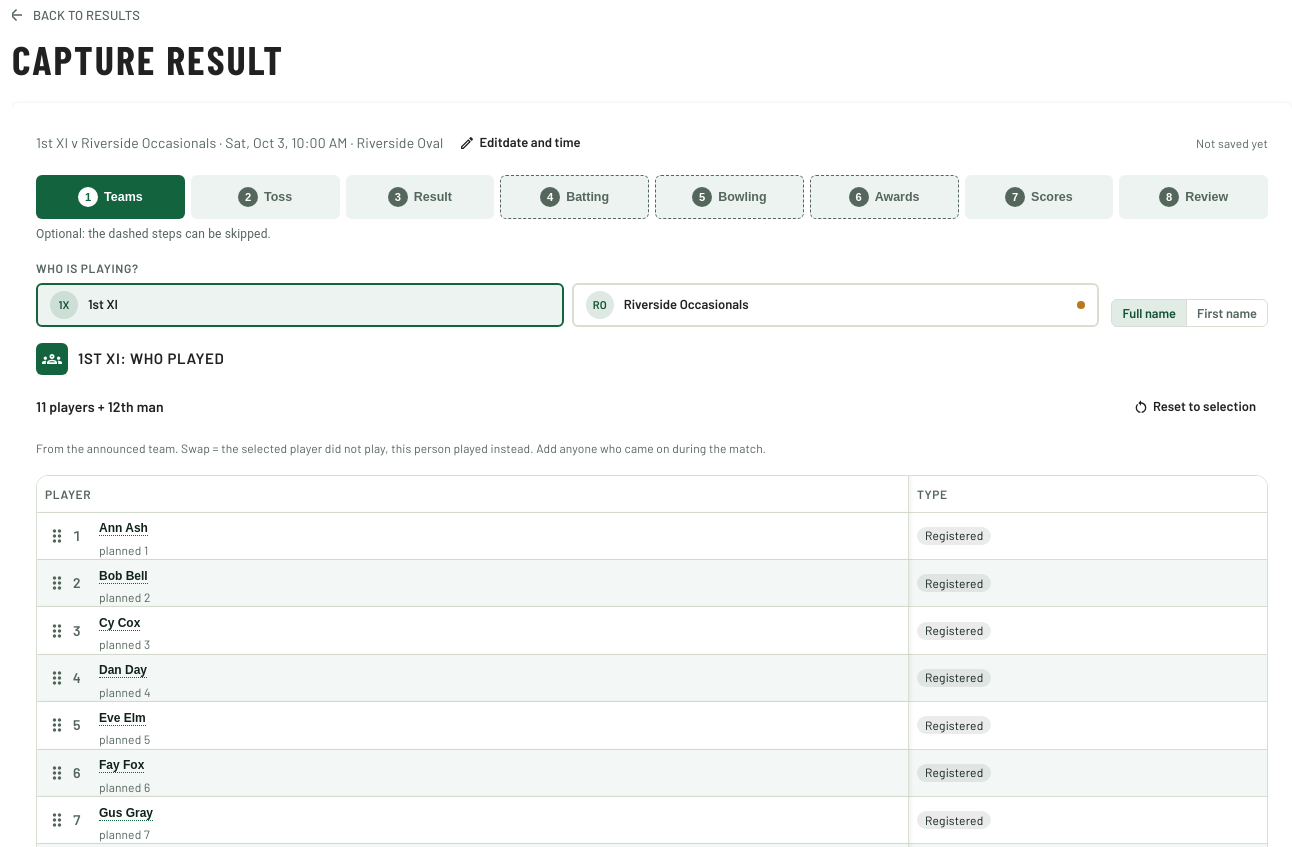
Teams step › offers "Played for ... before" chips that add a name with one tap and hide names already listed
Expected: the text "Ann Ash" is shown, [99,521,148,536]
Click the radio button labelled "RO Riverside Occasionals incomplete".
click(686, 304)  # box [572,283,1099,327]
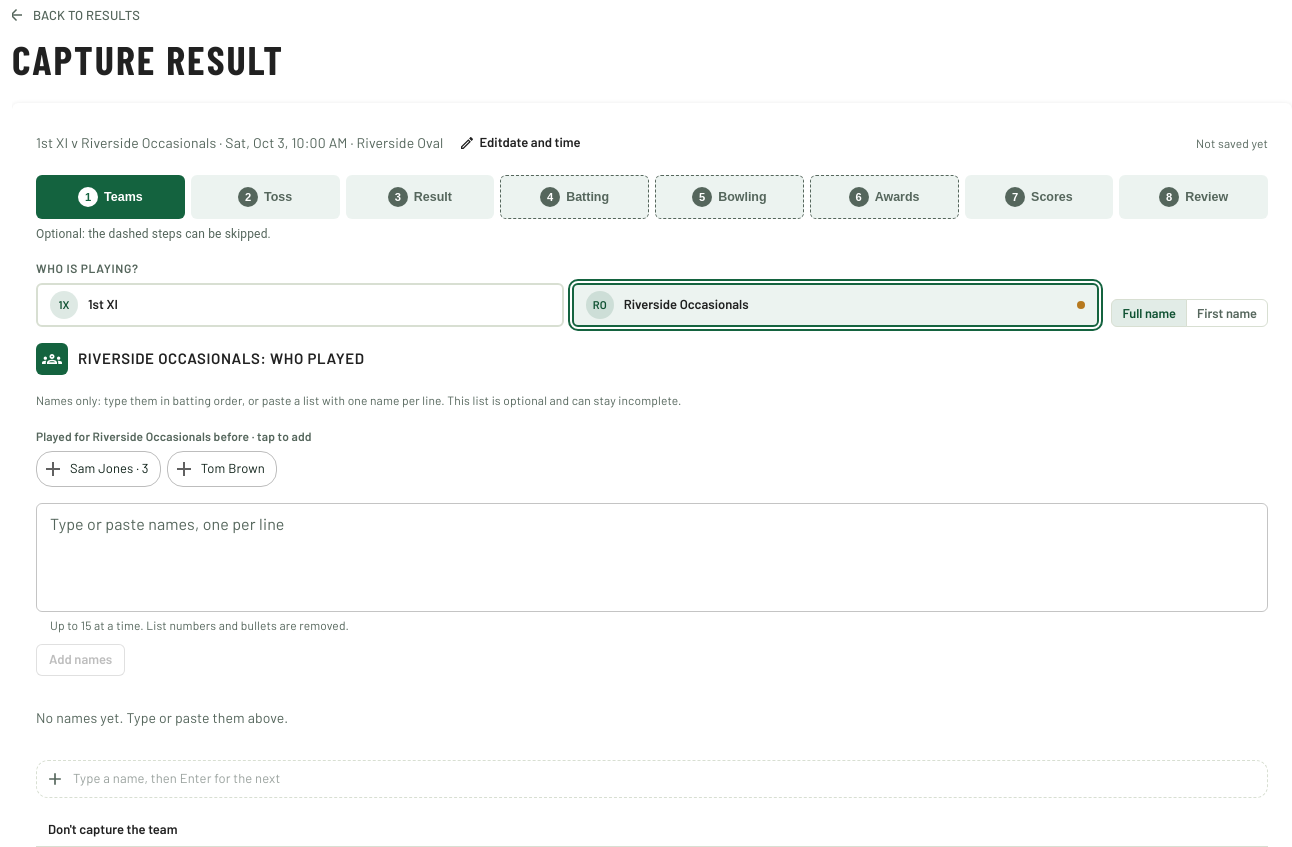
Click the button "Sam Jones · 3".
click(98, 469)  # box [36,451,161,487]
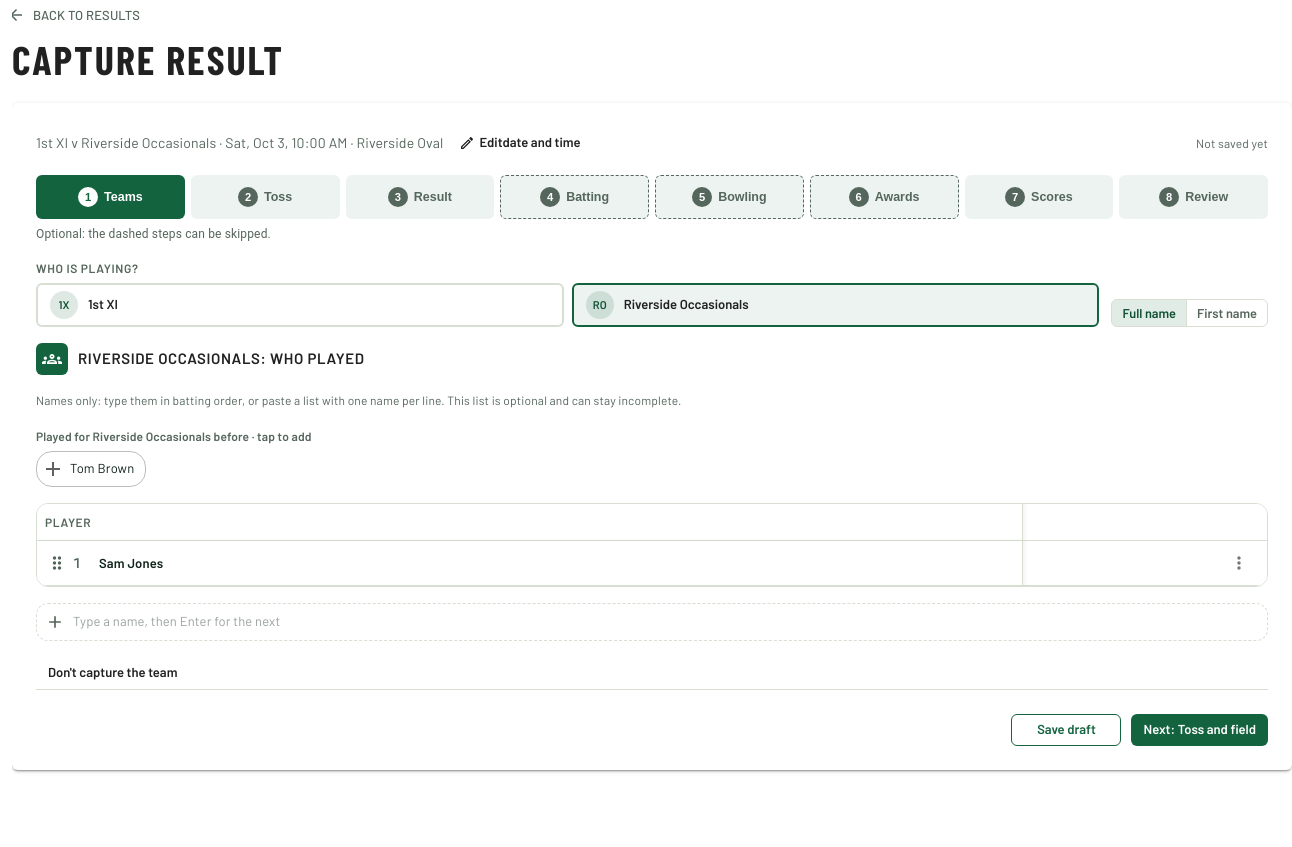
Expected: the text "Tom Brown" is shown, [70,460,134,476]
Expected: the field named "Name, Sam Jones" is shown, [99,551,1015,574]
Expected: the button "Sam Jones · 3" is gone
